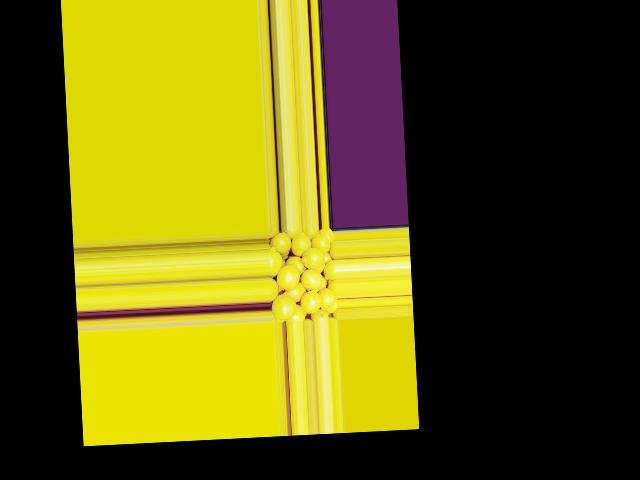lemon: (267, 244, 282, 275)
